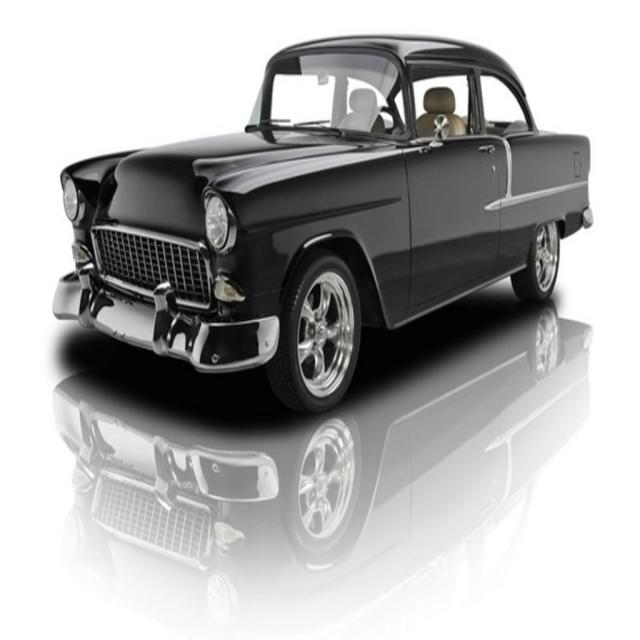car: (58, 30, 591, 417)
